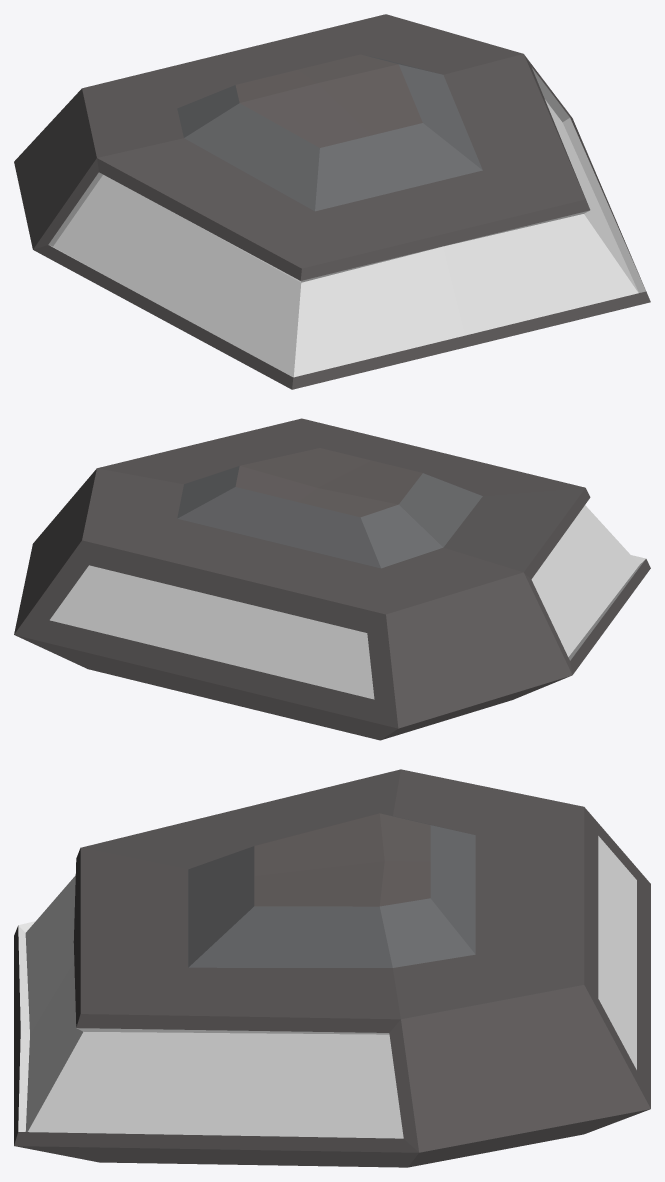
The model's file is EnemySpaceShipfinal_IrmakEsi .fbx.
3 renders of one model, top to bottom at view 1: azimuth 30°, elevation 25°; view 2: azimuth 150°, elevation 25°; view 3: azimuth 270°, elevation 25°, orthographic. The views are drawn at different scales.
Visible parts, largest first — view 1: Cube.002, Cube.001, Cube; view 2: Cube.002, Cube, Cube.001; view 3: Cube.002, Cube.001, Cube.
Boxes of the visible parts, <box> form: Cube.002: <box>14,14,650,389</box>; Cube.001: <box>53,100,638,377</box>; Cube: <box>48,68,645,292</box>; Cube.002: <box>14,418,650,740</box>; Cube: <box>50,555,645,699</box>; Cube.001: <box>531,505,639,656</box>; Cube.002: <box>14,769,650,1167</box>; Cube.001: <box>25,875,403,1138</box>; Cube: <box>18,836,636,1131</box>.
Size of the model in its own units: 281 by 92.19 by 239.
